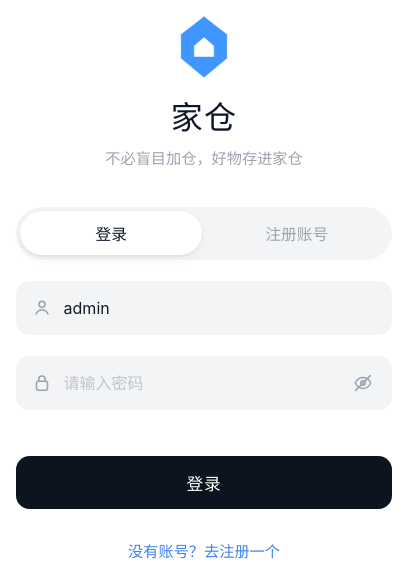
Test: 登录页 › toggles password visibility for mobile keyboard input
The width and height of the screenshot is (409, 576).
Expected: the button "登录" is shown, [16,456,392,509]
Type "secret123" into the password field labelled "密码" at (204, 383), box [64,357,344,410]
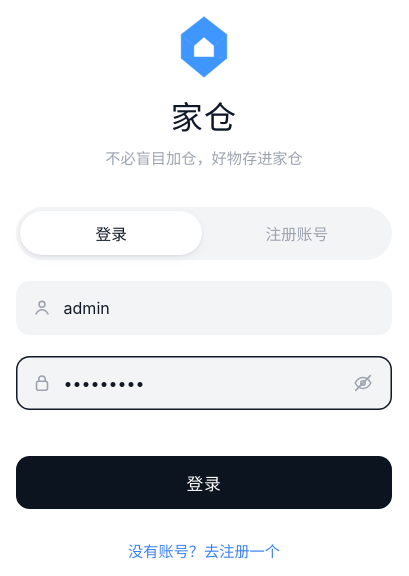
Click the button named "显示密码" at (363, 383), box [344,364,382,402]
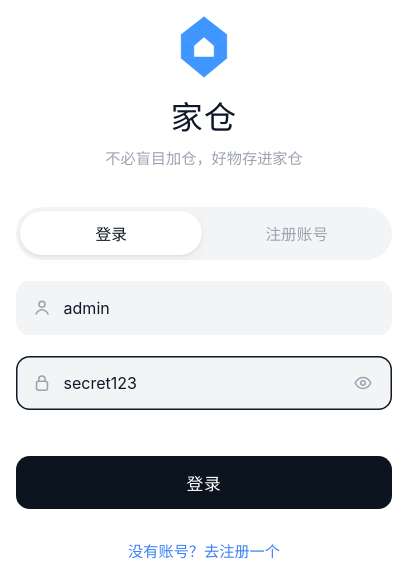
Result: the 2nd field named "密码" shows its text at [64,357,344,410]
